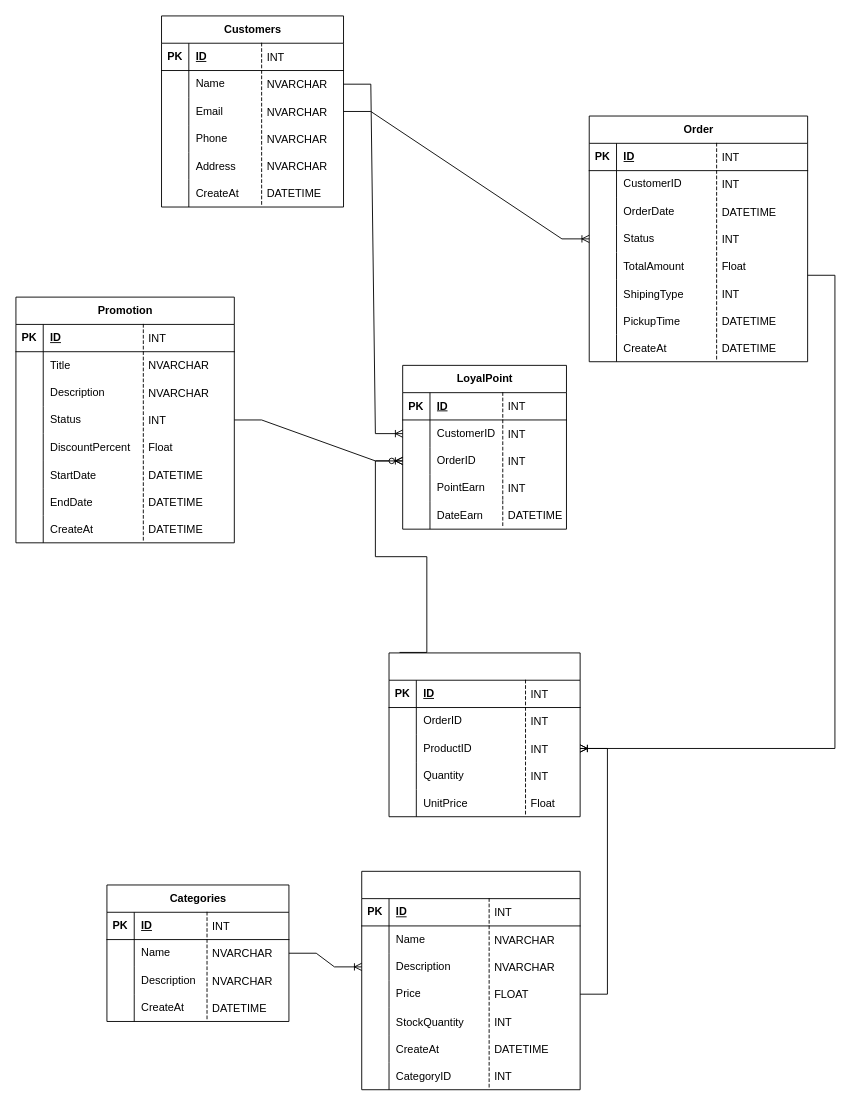
This 858x1106 diagram has some shape labels left out. Here are the shapes that lost their labels. From the top down, the box of each, then its label:
(388, 652, 580, 817): OrderDetail
(361, 870, 580, 1090): Products
